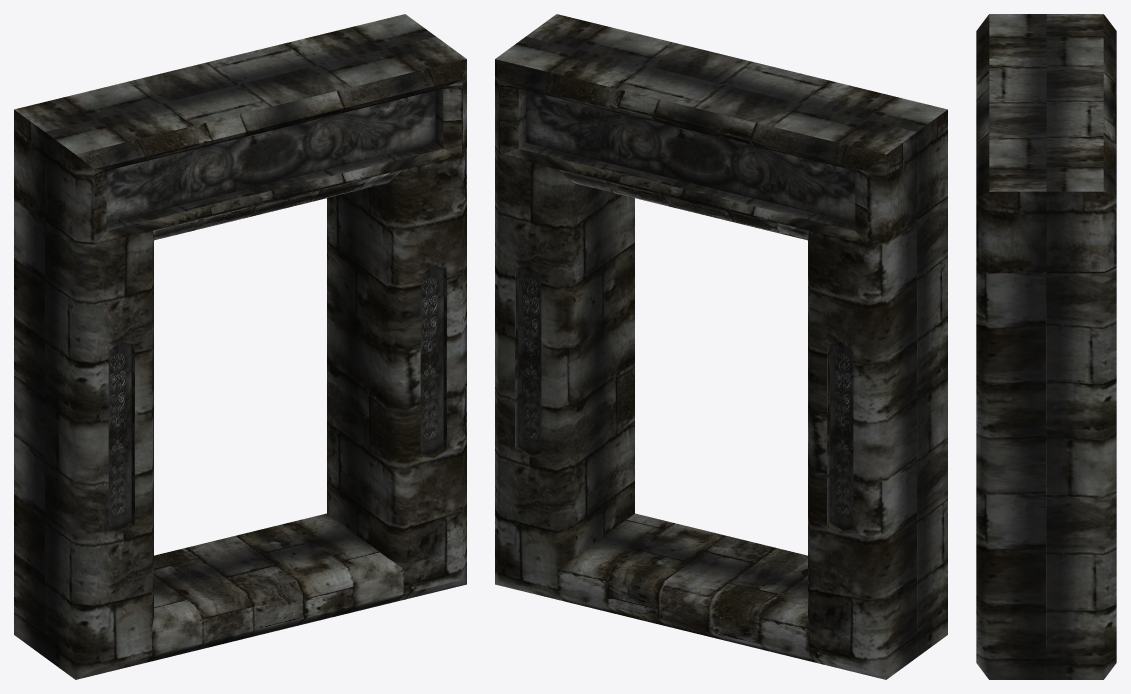
Rendered from door_frame.dae.
3 views of the same model, side by side, from view 1: azimuth 30°, elevation 25°; view 2: azimuth 150°, elevation 25°; view 3: azimuth 270°, elevation 25° (orthographic). The views are drawn at different scales.
Visible parts, largest first — view 1: polySurface130, polySurface136, polySurface135; view 2: polySurface130, polySurface136, polySurface135; view 3: polySurface130.
Part boxes in pixels (x1=…): polySurface130: x1=14, y1=14, x2=466, y2=679; polySurface136: x1=106, y1=90, x2=435, y2=222; polySurface135: x1=108, y1=266, x2=443, y2=530; polySurface130: x1=495, y1=14, x2=947, y2=679; polySurface136: x1=526, y1=90, x2=855, y2=222; polySurface135: x1=518, y1=266, x2=853, y2=530; polySurface130: x1=976, y1=14, x2=1116, y2=679.
Bounding box in the file's own units: 3 × 3.85 × 1.
